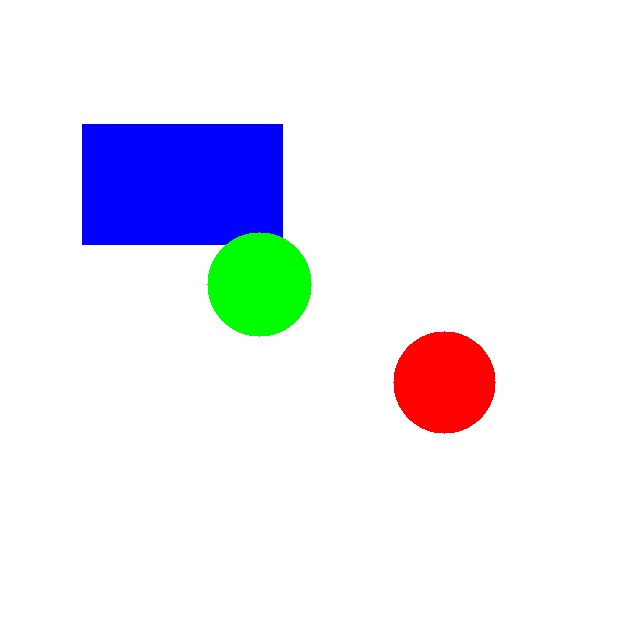cartao: (82, 124, 282, 244)
rosca_externa: (207, 232, 311, 336)
rosca_interna: (393, 331, 495, 433)
